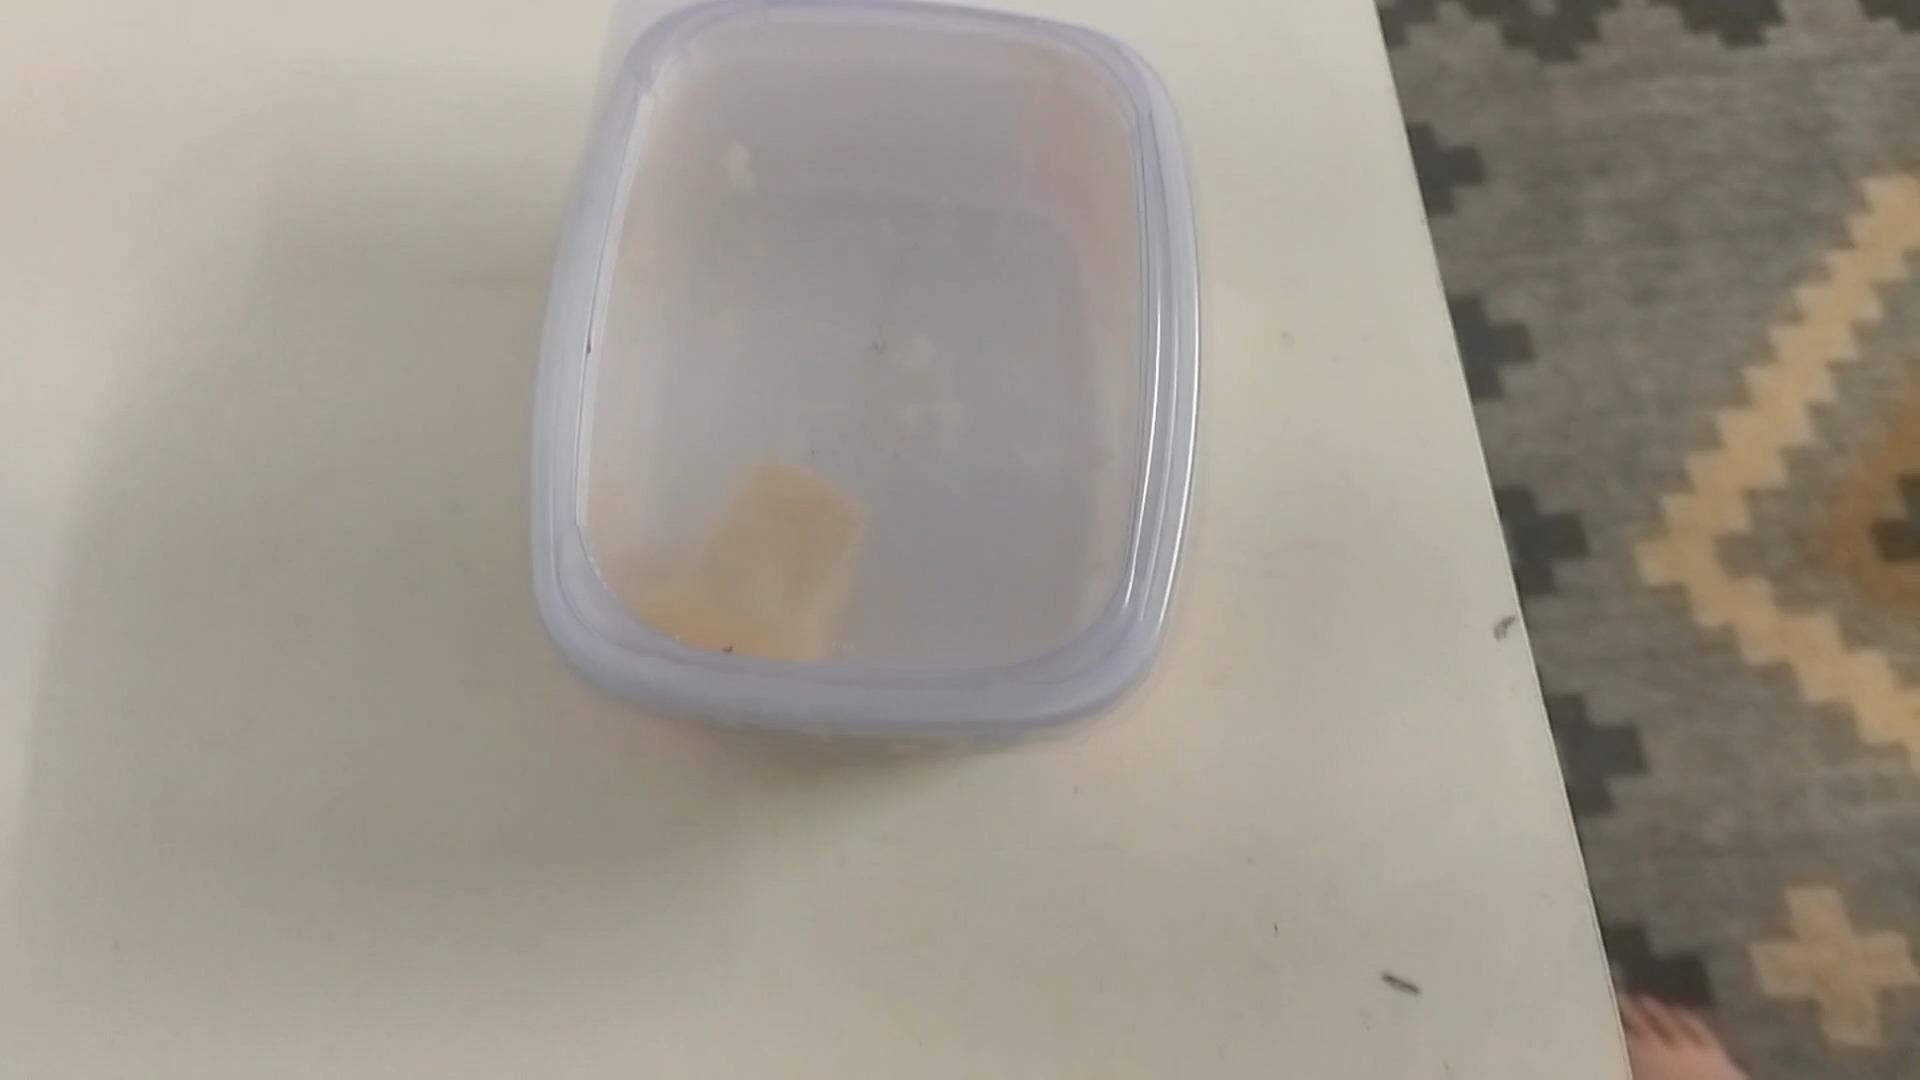butter: (531, 1, 1185, 744)
